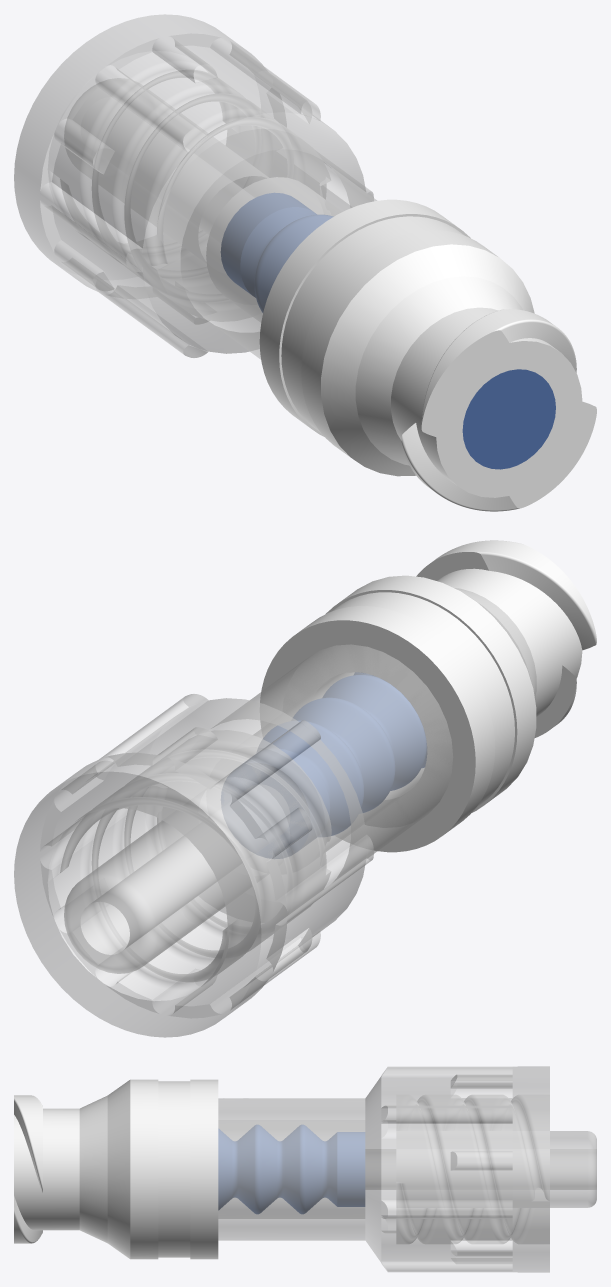
File: BD_SmartSite.glb
3 renders of one model, top to bottom at view 1: azimuth 30°, elevation 25°; view 2: azimuth 150°, elevation 25°; view 3: azimuth 270°, elevation 25°, orthographic. The views are drawn at different scales.
Parts seen in each view (by area): view 1: Object_3.003, Object_5.002, Object_4.004; view 2: Object_3.003, Object_5.002, Object_4.004; view 3: Object_3.003, Object_5.002, Object_4.004.
Part boxes in pixels (left/top/right/bottom): Object_3.003: left=14, top=14, right=376, bottom=359; Object_5.002: left=259, top=199, right=596, bottom=511; Object_4.004: left=221, top=193, right=555, bottom=469; Object_3.003: left=14, top=644, right=453, bottom=1037; Object_5.002: left=260, top=540, right=596, bottom=852; Object_4.004: left=221, top=672, right=426, bottom=858; Object_3.003: left=218, top=1066, right=596, bottom=1272; Object_5.002: left=14, top=1079, right=218, bottom=1259; Object_4.004: left=218, top=1125, right=364, bottom=1213.
Size of the model in its own units: 11 by 11 by 31.1.
